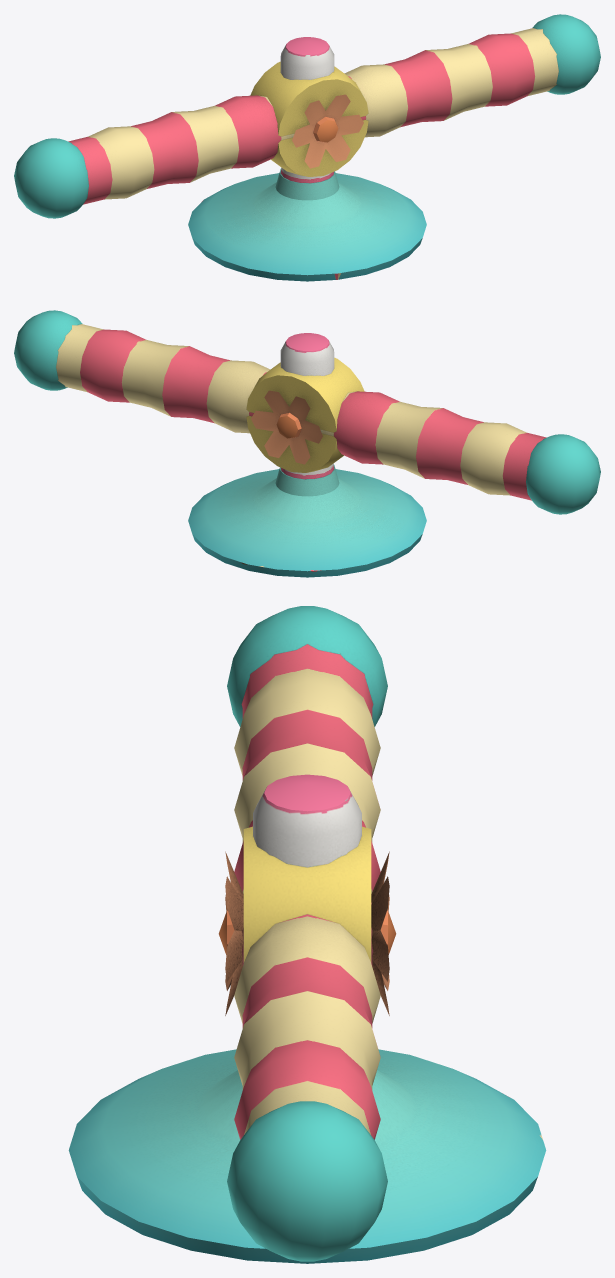
The model's file is dash_sweeper.fbx.
3 views of the same model, one above another, from view 1: azimuth 30°, elevation 25°; view 2: azimuth 150°, elevation 25°; view 3: azimuth 270°, elevation 25° (orthographic). The views are drawn at different scales.
Parts seen in each view (by area): view 1: dash_sweeper_arm, dash_sweeper; view 2: dash_sweeper_arm, dash_sweeper; view 3: dash_sweeper_arm, dash_sweeper.
Part boxes in pixels (left/top/right/bottom): dash_sweeper_arm: left=14, top=14, right=600, bottom=218; dash_sweeper: left=188, top=37, right=426, bottom=281; dash_sweeper_arm: left=14, top=310, right=600, bottom=514; dash_sweeper: left=188, top=333, right=426, bottom=577; dash_sweeper_arm: left=218, top=606, right=396, bottom=1261; dash_sweeper: left=68, top=774, right=546, bottom=1263.
Size of the model in its own units: 2393 by 760 by 860.
Materials: 1 (1 with a texture image).
